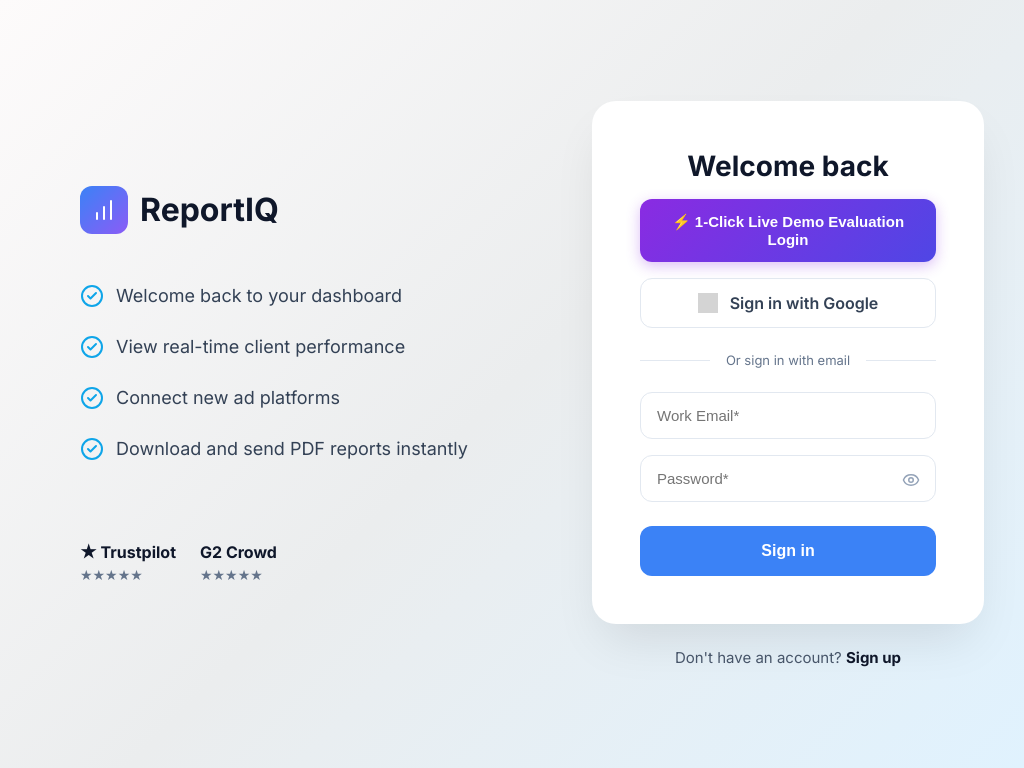
Test: LoginPage › displays error on failed demo login
The width and height of the screenshot is (1024, 768).
Click the button "⚡ 1-Click Live Demo Evaluation Login" at [788, 230], box [640,199,936,262]
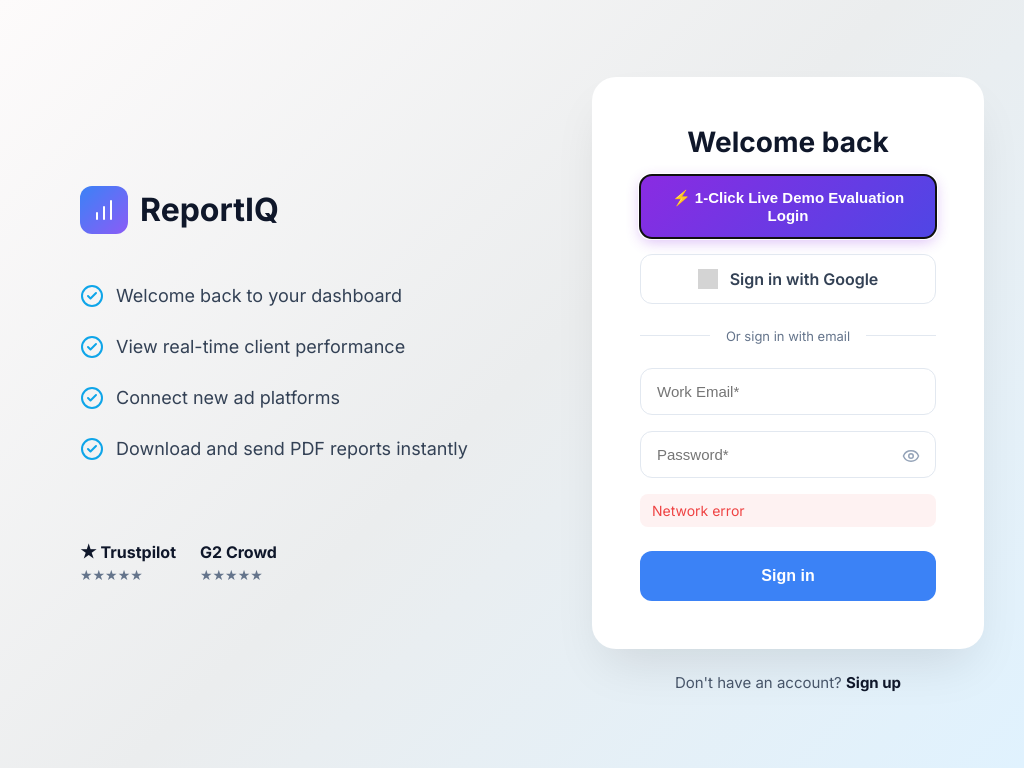
Expected: the text "Network error" is shown, [640,494,936,526]
